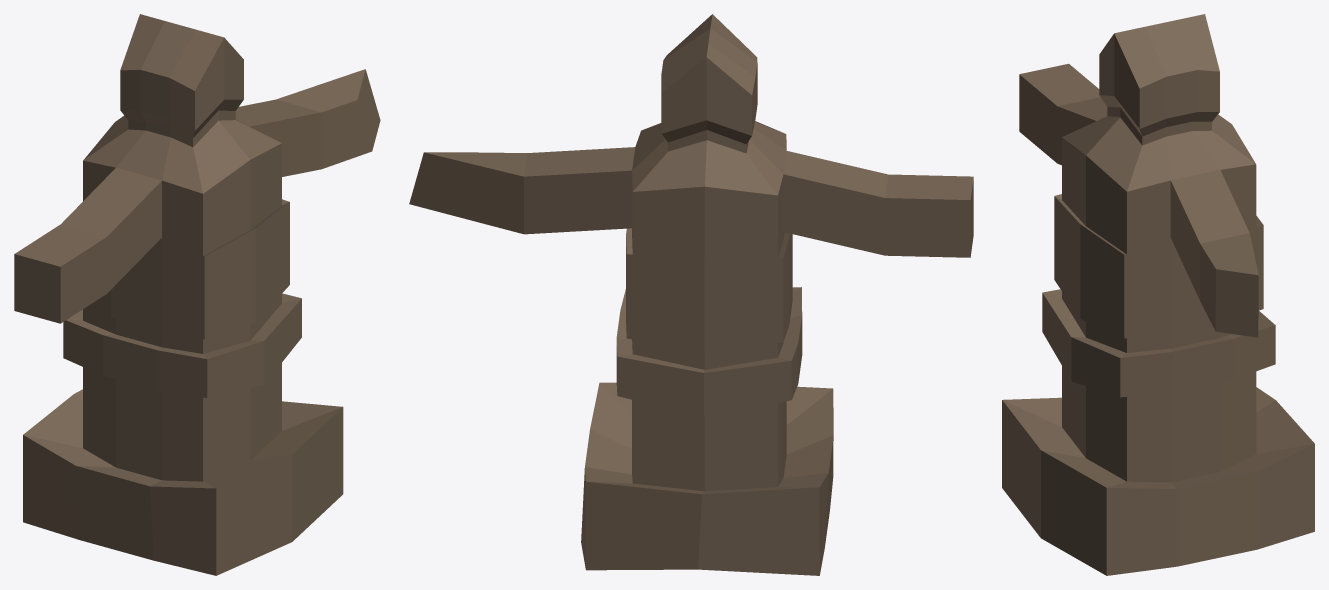
The model's file is minitemplo_aberto.fbx.
The picture shows the model from 3 angles, left to right: view 1: azimuth 30°, elevation 25°; view 2: azimuth 150°, elevation 25°; view 3: azimuth 270°, elevation 25°; orthographic projection.
Visible parts, largest first — view 1: Cube; view 2: Cube; view 3: Cube.
Part boxes in pixels (bbox=[...]): Cube: bbox=[14, 14, 380, 575]; Cube: bbox=[409, 14, 973, 575]; Cube: bbox=[1002, 14, 1314, 575].
Bounding box in the file's own units: 167 × 168 × 97.46.
Materials: 1 (1 with a texture image).
